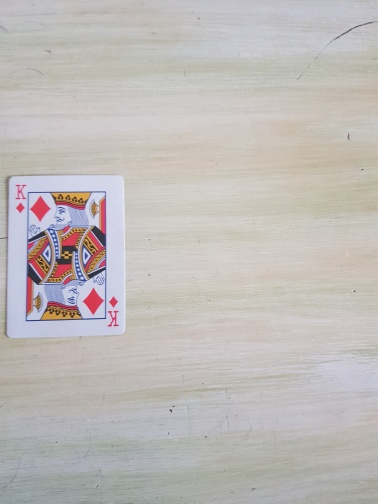king: (5, 173, 127, 340)
